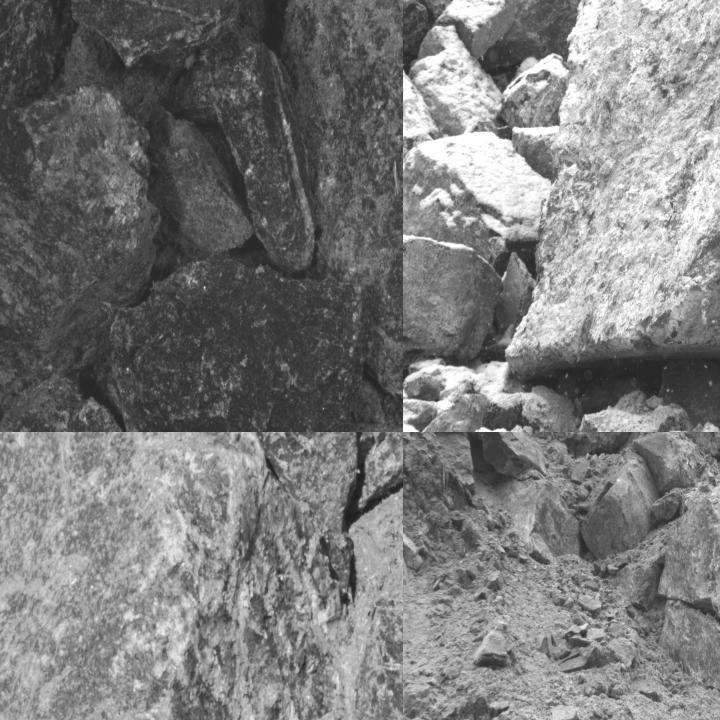stone: (0, 432, 329, 719), (504, 0, 719, 381), (284, 0, 402, 422), (0, 88, 160, 377), (111, 262, 364, 431), (197, 36, 314, 267), (403, 131, 549, 269), (146, 104, 254, 248), (403, 234, 504, 374), (660, 491, 719, 686), (72, 0, 241, 66), (0, 0, 73, 122), (580, 455, 659, 560), (0, 378, 154, 431), (652, 601, 719, 717), (403, 0, 437, 223), (424, 0, 517, 58), (502, 53, 566, 129), (578, 391, 691, 431), (635, 432, 708, 493), (481, 432, 548, 479), (615, 553, 664, 613), (416, 394, 487, 431), (473, 631, 507, 665), (651, 490, 685, 521), (403, 398, 439, 425)
